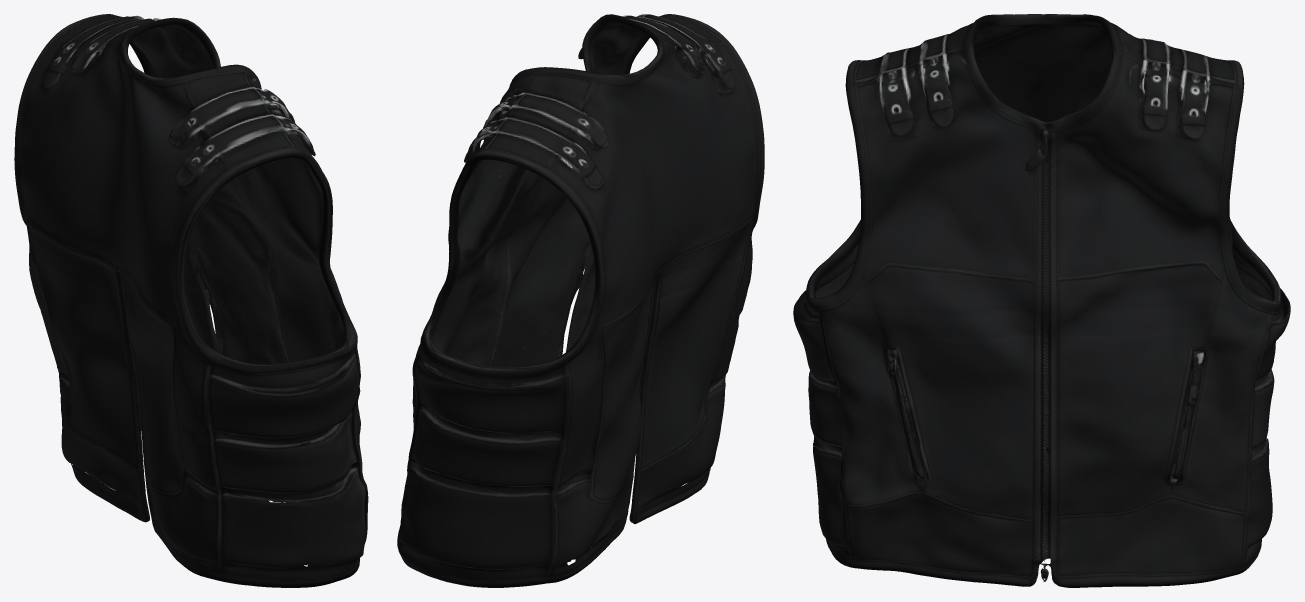
The model's file is prsluk-3dmodel-mobile.glb.
3 renders of one model, left to right at view 1: azimuth 30°, elevation 25°; view 2: azimuth 150°, elevation 25°; view 3: azimuth 270°, elevation 25°, orthographic. The views are drawn at different scales.
Parts seen in each view (by area): view 1: tripo_node_dc9e5c96; view 2: tripo_node_dc9e5c96; view 3: tripo_node_dc9e5c96.
Boxes of the visible parts, x1=… form: tripo_node_dc9e5c96: x1=14, y1=14, x2=368, y2=587; tripo_node_dc9e5c96: x1=397, y1=14, x2=764, y2=587; tripo_node_dc9e5c96: x1=793, y1=14, x2=1290, y2=587.
Size of the model in its own units: 0.4389 by 0.9767 by 0.8747.
1 material, 1 textured.
